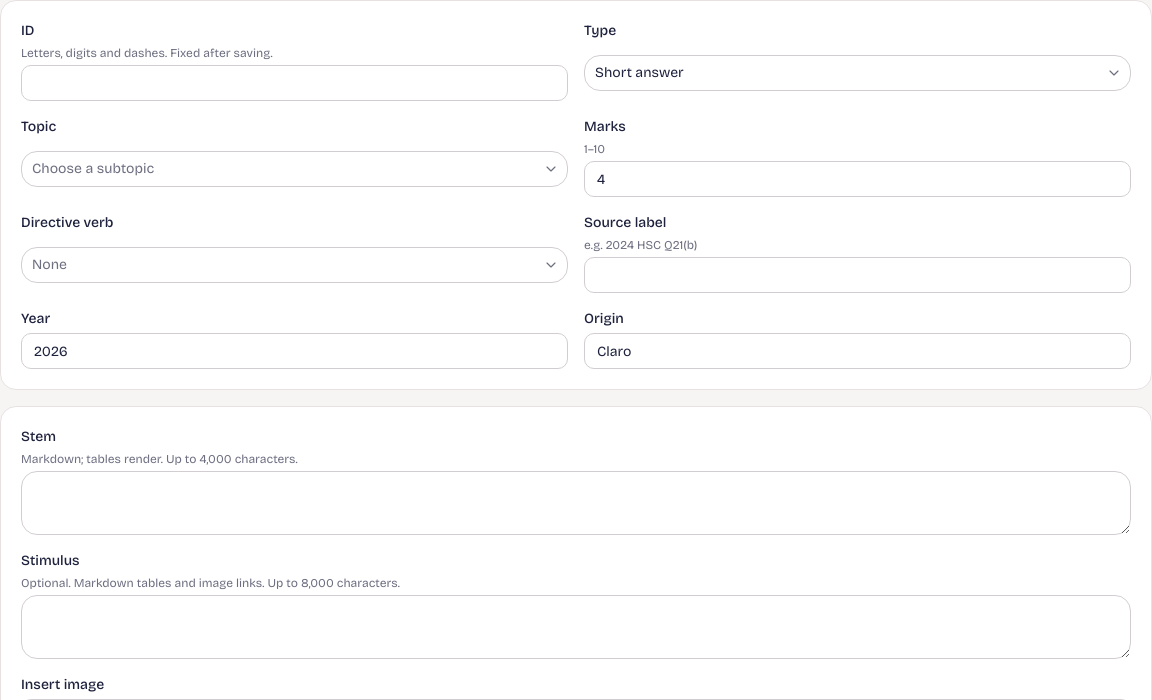
prevents an open dropdown from editing the question during a keyboard save
The image size is (1152, 700).
Type "new-question" into the field labelled "ID" at (294, 83), box x1=21 y1=65 x2=568 y2=101
Type "Claro" into the field labelled "Source label" at (858, 275), box x1=584 y1=257 x2=1131 y2=293
Type "Explain inflation" into the text box labelled "Stem" at (576, 503), box x1=21 y1=471 x2=1131 y2=535
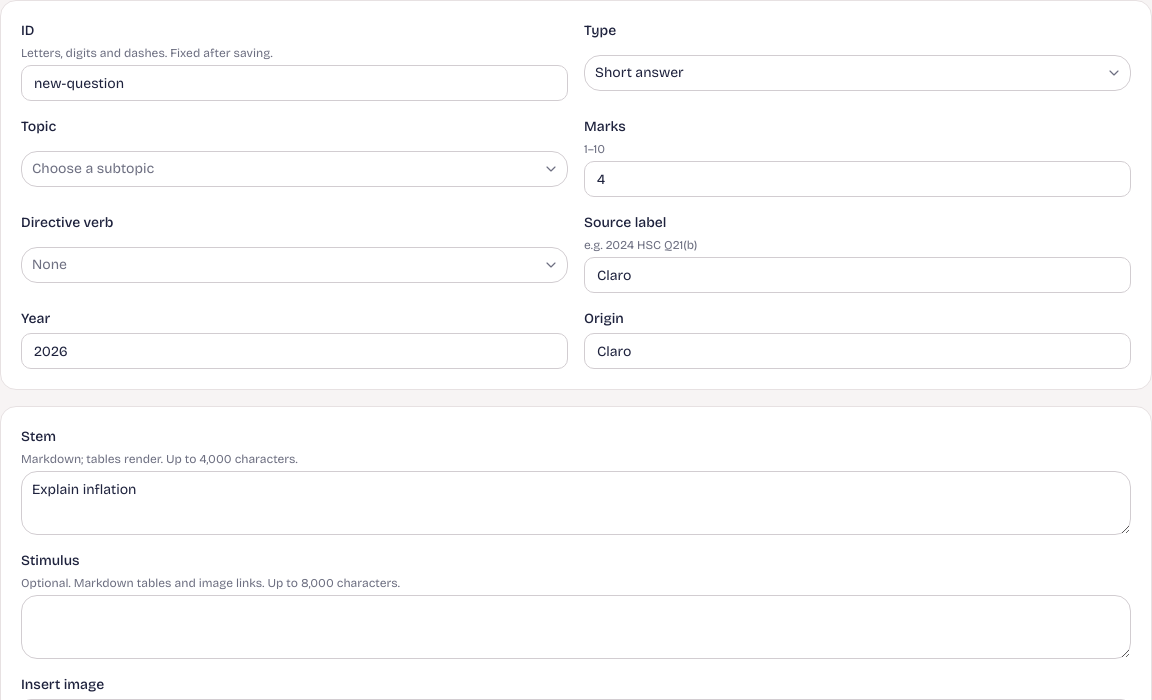
Click the dropdown labelled "topic" at (93, 168), box x1=21 y1=151 x2=568 y2=187
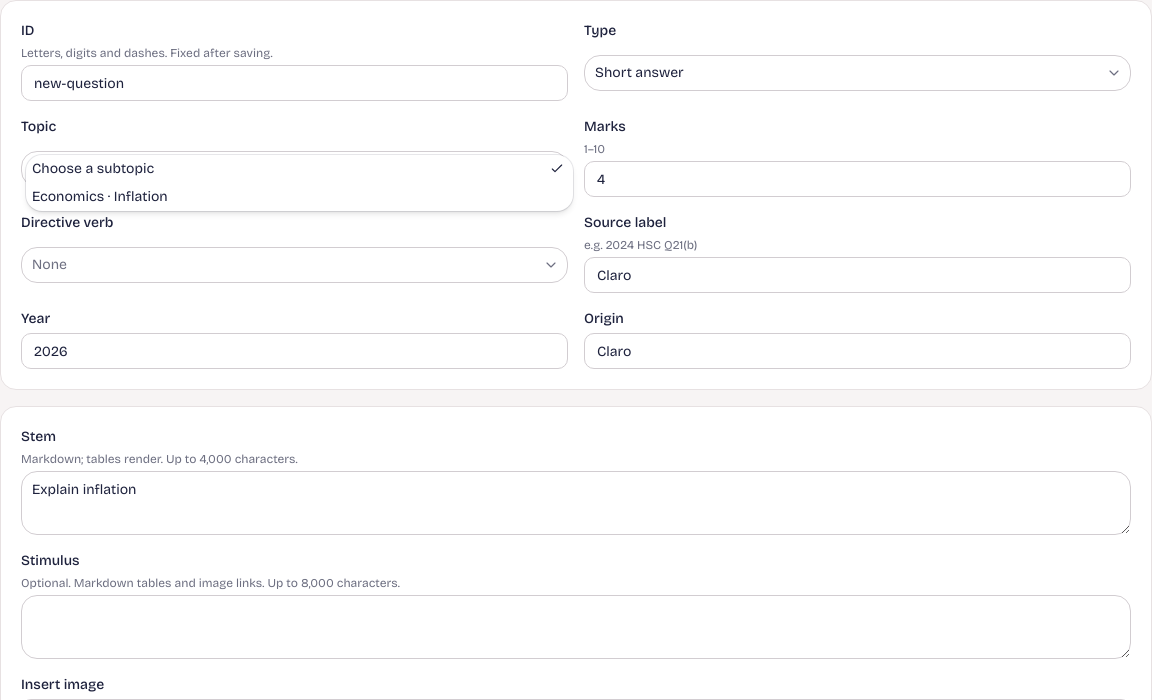
Click the option "Economics · Inflation" at (100, 196), box x1=32 y1=188 x2=168 y2=205
(page scrolled)
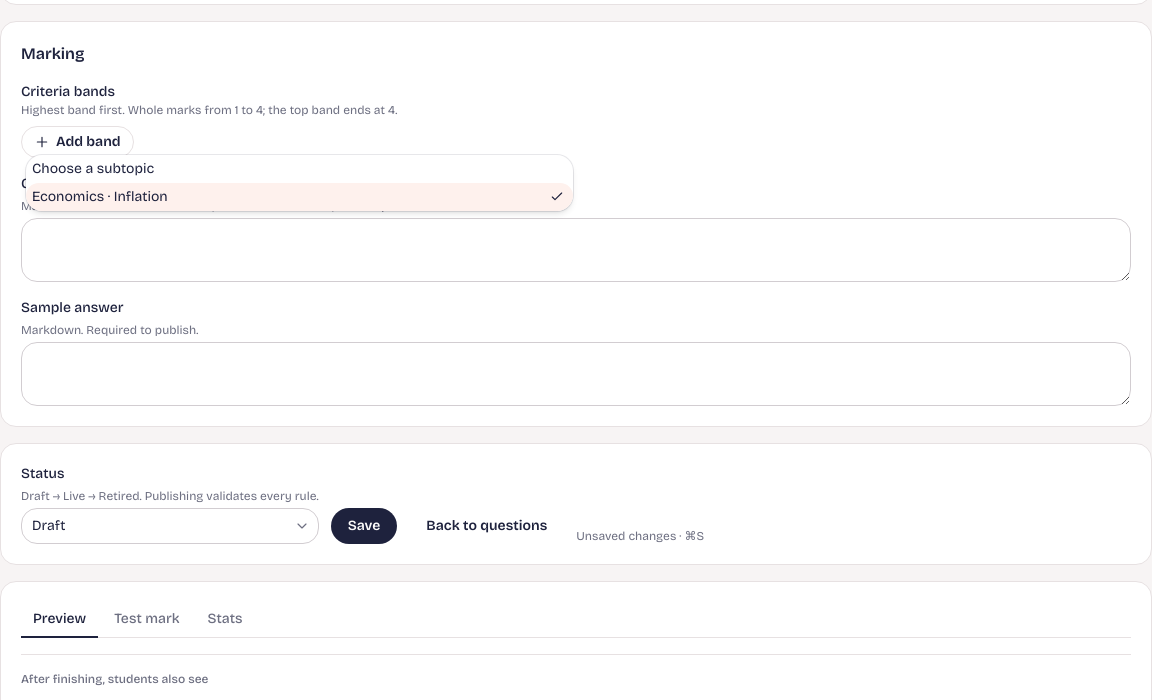
Click the dropdown named "Status" at (49, 526), box x1=21 y1=508 x2=319 y2=544
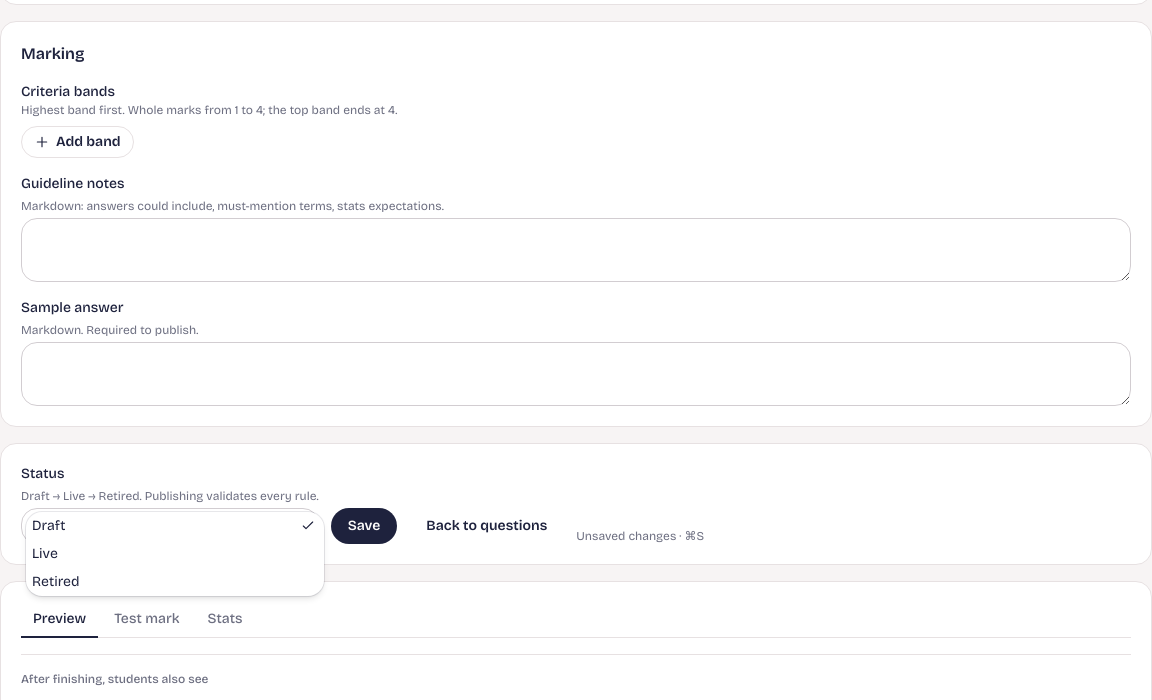
Press s
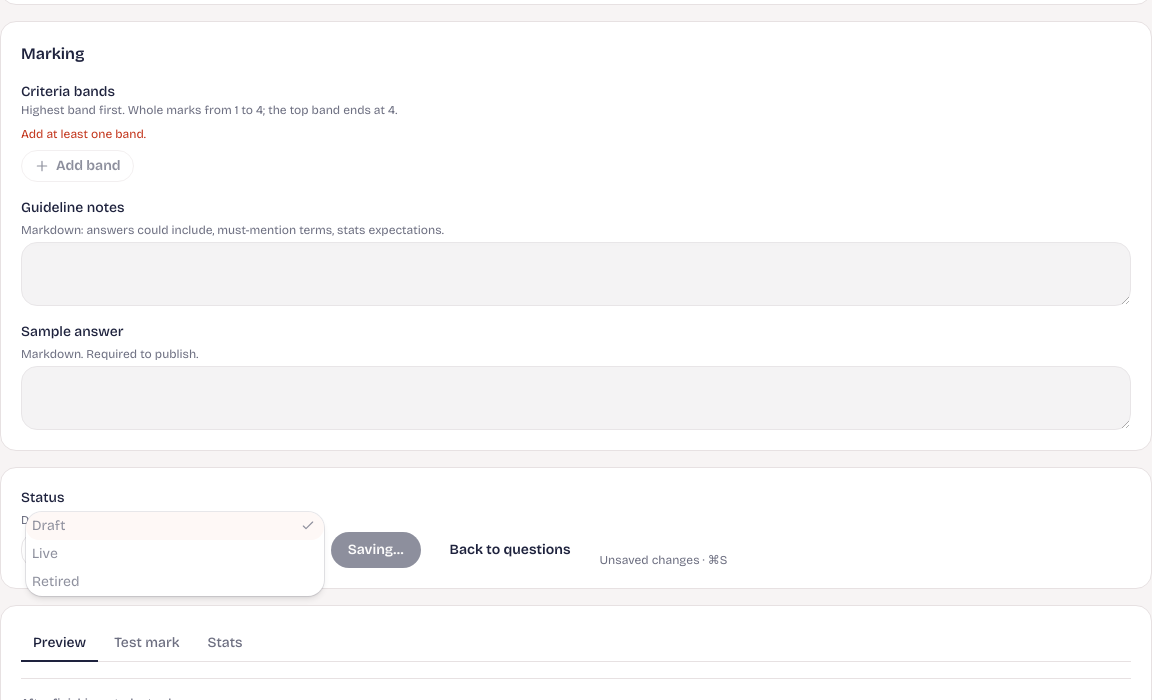
Click the option "Live" at (45, 554), box x1=32 y1=545 x2=58 y2=562
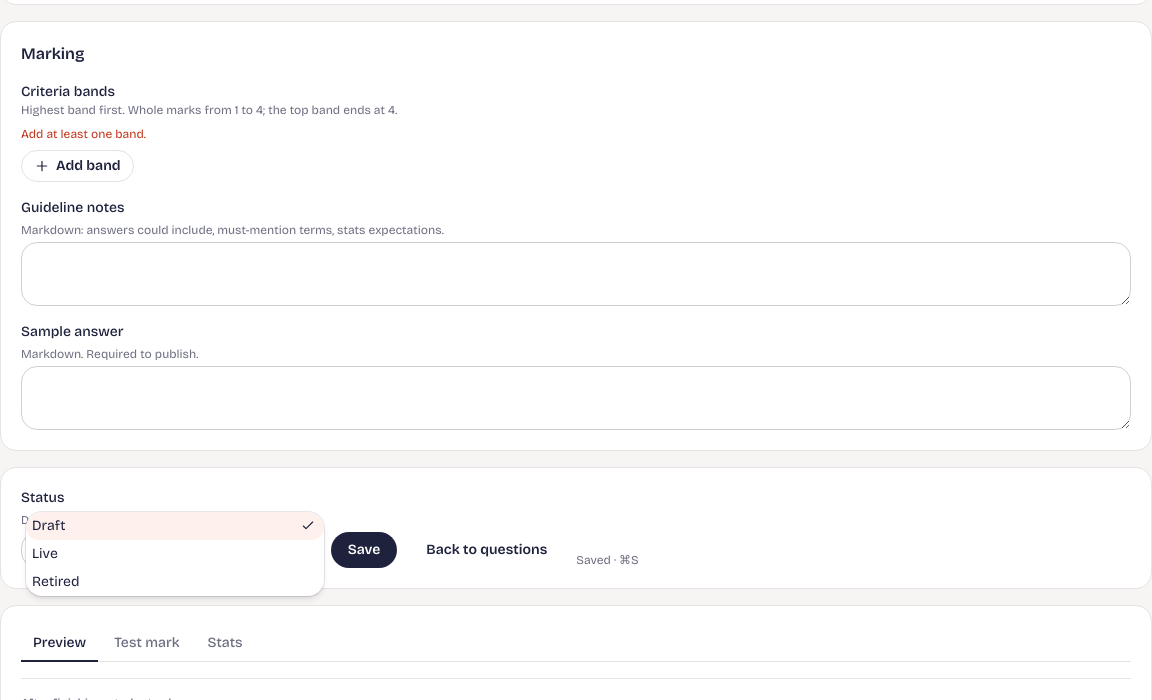
Expected: the dropdown named "Status" reads "Draft", x1=21 y1=532 x2=319 y2=568
Expected: the text "Saved · ⌘S" is shown, x1=576 y1=552 x2=639 y2=568
